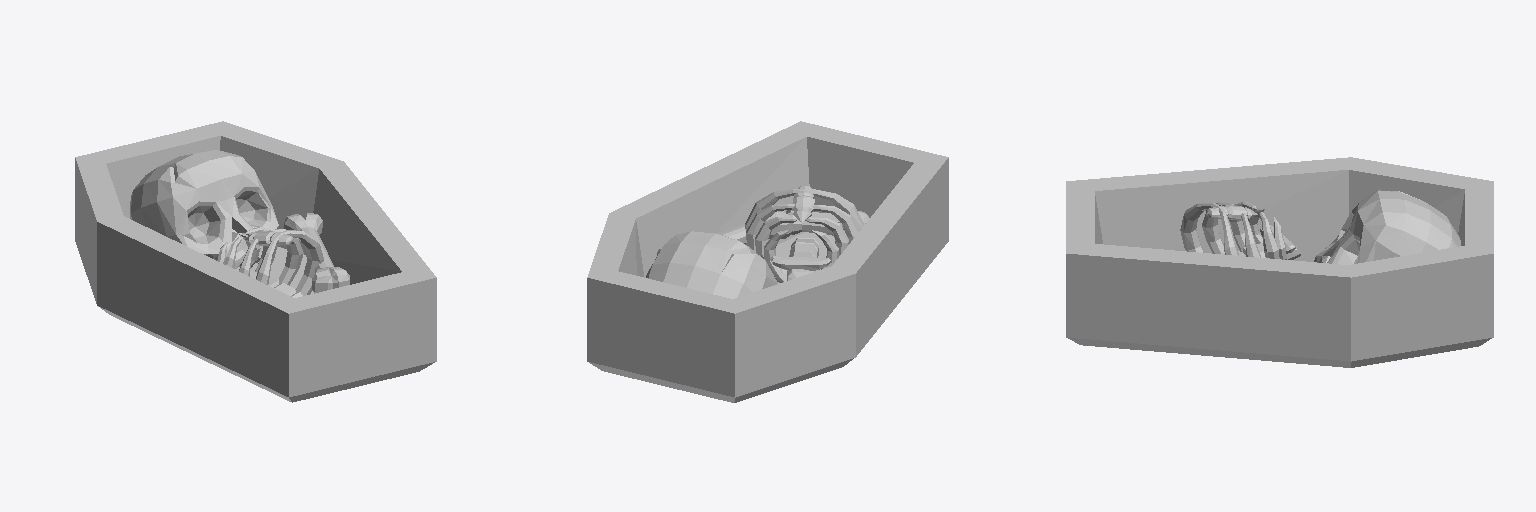
File: coffin_decorated.obj
The picture shows the model from 3 angles: view 1: azimuth 30°, elevation 25°; view 2: azimuth 150°, elevation 25°; view 3: azimuth 270°, elevation 25°; orthographic projection.
Visible parts, largest first — view 1: coffin_decorated_Cube.536; view 2: coffin_decorated_Cube.536; view 3: coffin_decorated_Cube.536.
Boxes of the visible parts, box(x1,y1,x2,y2) form: coffin_decorated_Cube.536: box(75, 121, 436, 402); coffin_decorated_Cube.536: box(587, 121, 948, 402); coffin_decorated_Cube.536: box(1066, 157, 1493, 367).
Bounding box in the file's own units: 2 × 0.9025 × 3.